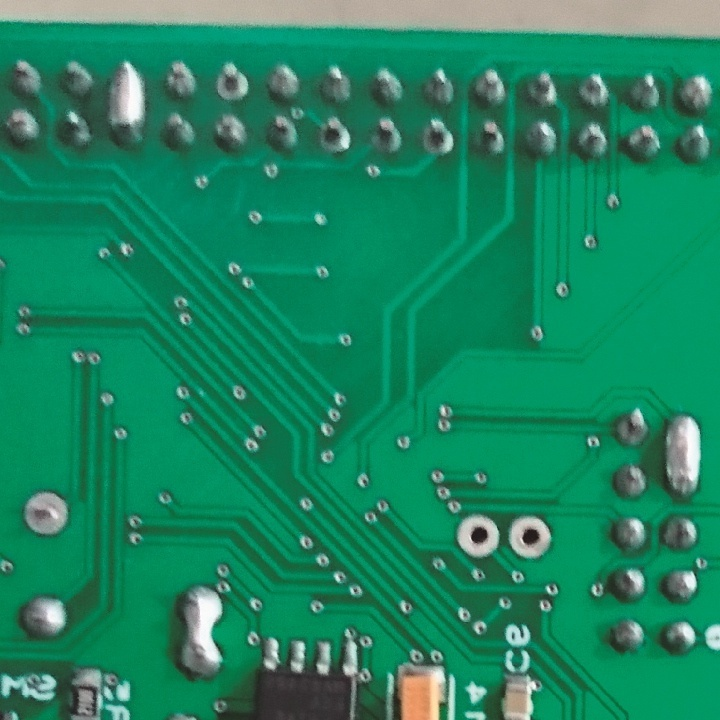F: (24, 486, 70, 540), (456, 512, 501, 559), (508, 515, 552, 563), (213, 61, 252, 101), (319, 112, 351, 155), (421, 120, 454, 158)
P: (176, 580, 229, 679), (660, 403, 702, 502), (100, 59, 146, 148)
